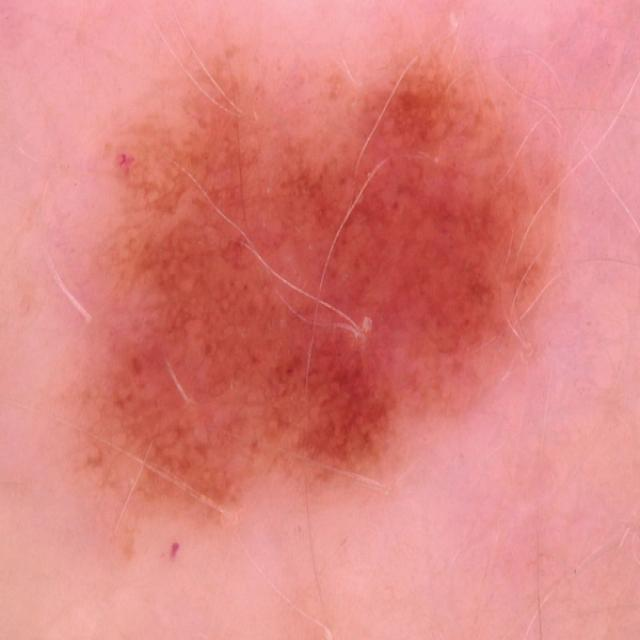NV: (62, 38, 563, 556)
